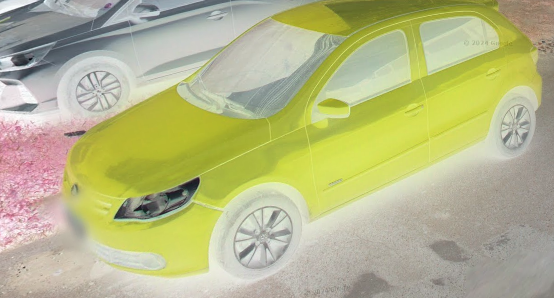car: (63, 4, 541, 276)
